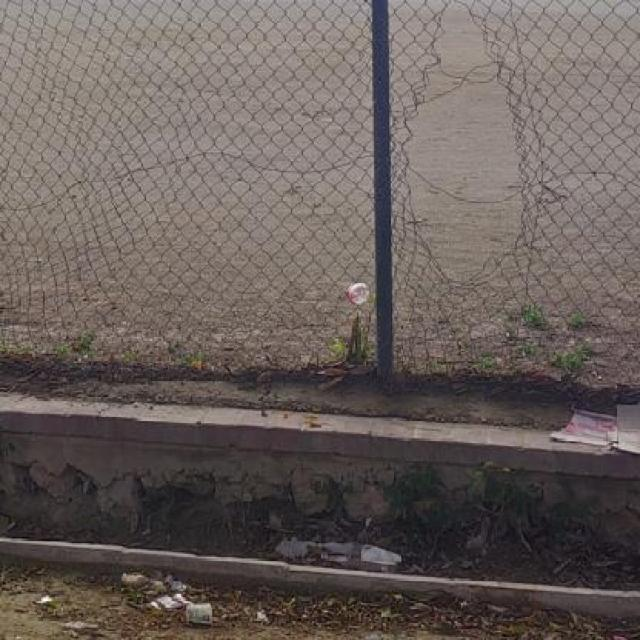fence line: (406, 3, 537, 302)
